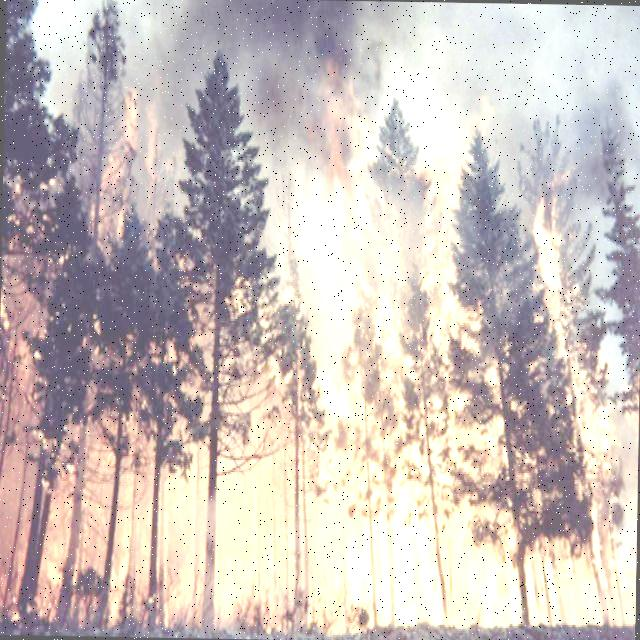api: (330, 114, 476, 630), (30, 450, 286, 635), (530, 208, 618, 516), (496, 514, 626, 634), (112, 84, 150, 239)
asap: (81, 1, 461, 89), (491, 1, 640, 171), (262, 100, 331, 240)
